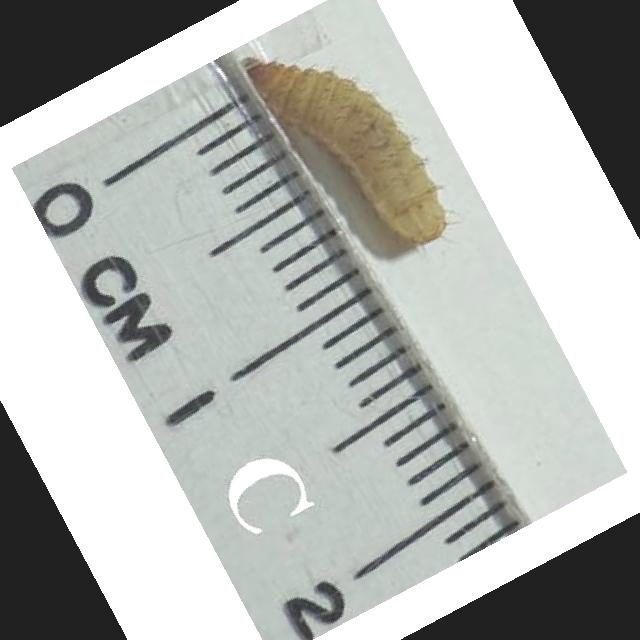Maggot: (242, 54, 449, 242)
